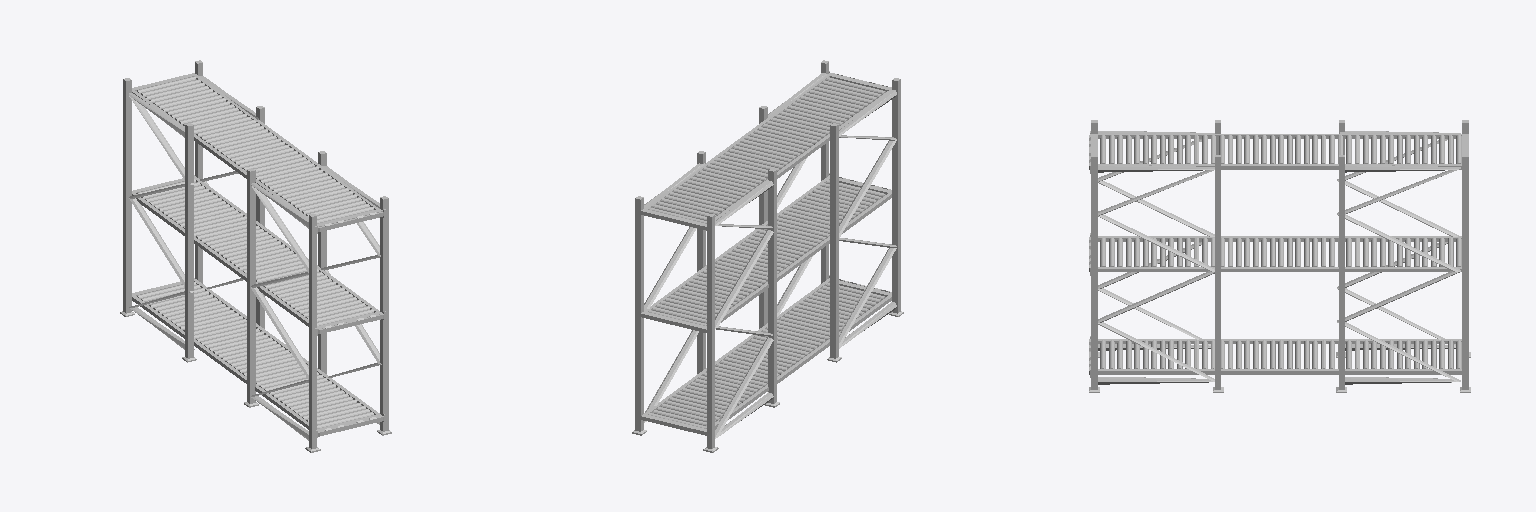
Rendered from estanteria.obj.
3 views of the same model, side by side, from view 1: azimuth 30°, elevation 25°; view 2: azimuth 150°, elevation 25°; view 3: azimuth 270°, elevation 25° (orthographic).
Parts seen in each view (by area): view 1: Cylinder, Cube.001, Plane.003, Plane.002, Plane.001; view 2: Cylinder, Cube.001, Plane.003, Plane.002; view 3: Cylinder, Plane.003, Plane.002, Cube.001.
Part boxes in pixels (x1,y1,x2,y2): Cylinder: (136, 76, 373, 428); Cube.001: (120, 60, 391, 452); Plane.003: (129, 76, 381, 440); Plane.002: (132, 73, 382, 431); Plane.001: (315, 209, 385, 438); Cylinder: (649, 77, 885, 428); Cube.001: (632, 60, 903, 452); Plane.003: (644, 73, 896, 438); Plane.002: (641, 73, 891, 435); Cylinder: (1100, 135, 1461, 368); Plane.003: (1098, 131, 1460, 384); Plane.002: (1091, 134, 1468, 374); Cube.001: (1089, 120, 1470, 392).
Bounding box in the file's own units: 1.13 × 3.13 × 4.62.